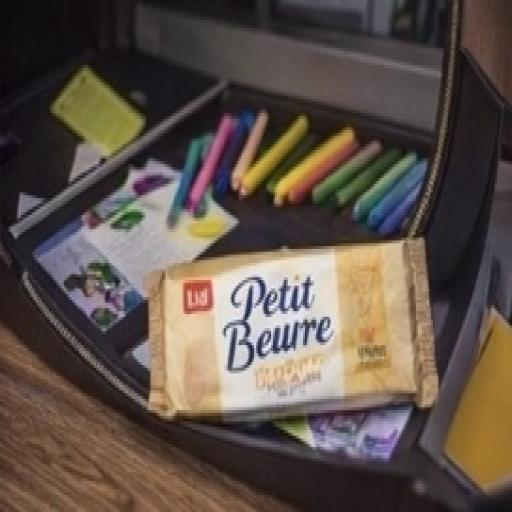petit_beurre: (104, 218, 455, 464)
